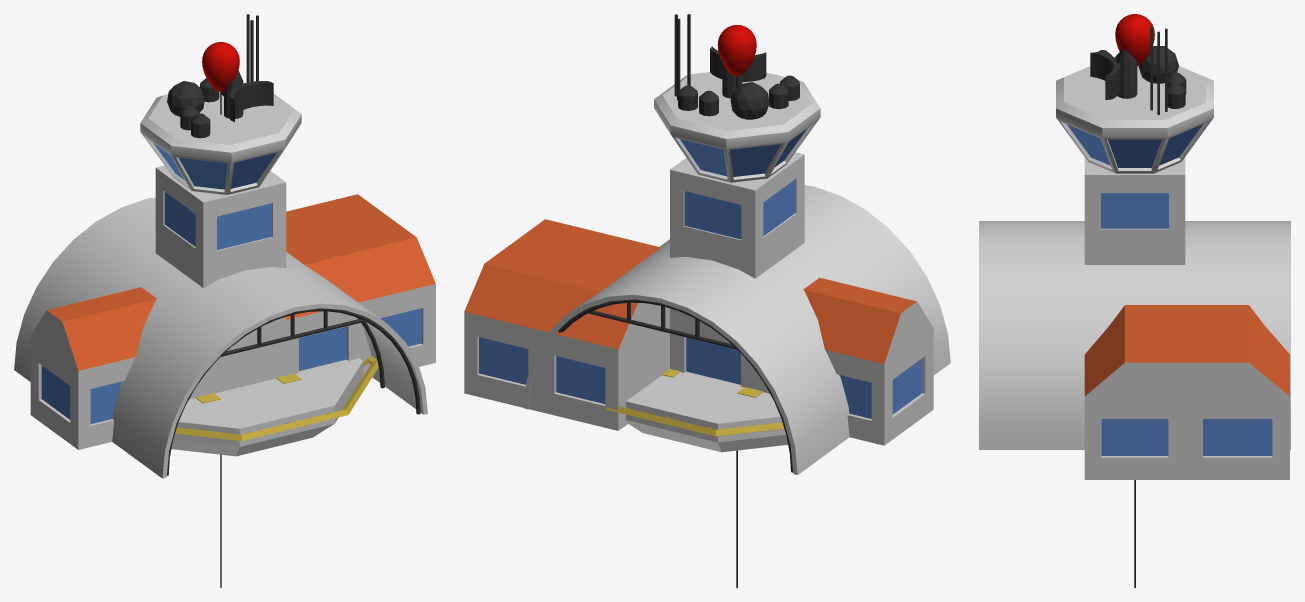
File: Balloon.fbx
3 renders of one model, left to right at view 1: azimuth 30°, elevation 25°; view 2: azimuth 150°, elevation 25°; view 3: azimuth 270°, elevation 25°, orthographic. The views are drawn at different scales.
Parts seen in each view (by area): view 1: Cube, Cylinder, Circle, Torus, Circle.002; view 2: Cube, Cylinder, Circle, Torus, Circle.002; view 3: Cube, Cylinder, Circle.002.
Boxes of the visible parts, x1=… form: Cube: x1=30, y1=14, x2=435, y2=449; Cylinder: x1=14, y1=197, x2=427, y2=478; Circle: x1=171, y1=355, x2=378, y2=456; Torus: x1=167, y1=308, x2=420, y2=475; Circle.002: x1=202, y1=42, x2=239, y2=91; Cube: x1=464, y1=14, x2=933, y2=445; Cylinder: x1=524, y1=185, x2=950, y2=474; Circle: x1=605, y1=369, x2=787, y2=452; Torus: x1=558, y1=299, x2=792, y2=472; Circle.002: x1=717, y1=25, x2=756, y2=76; Cube: x1=1056, y1=27, x2=1289, y2=479; Cylinder: x1=979, y1=221, x2=1290, y2=449; Circle.002: x1=1115, y1=14, x2=1154, y2=65.
Size of the model in its own units: 862 by 1272 by 620.
